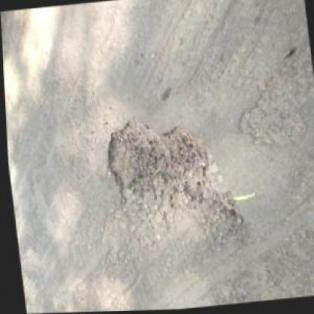Hueco: (100, 109, 220, 210)
